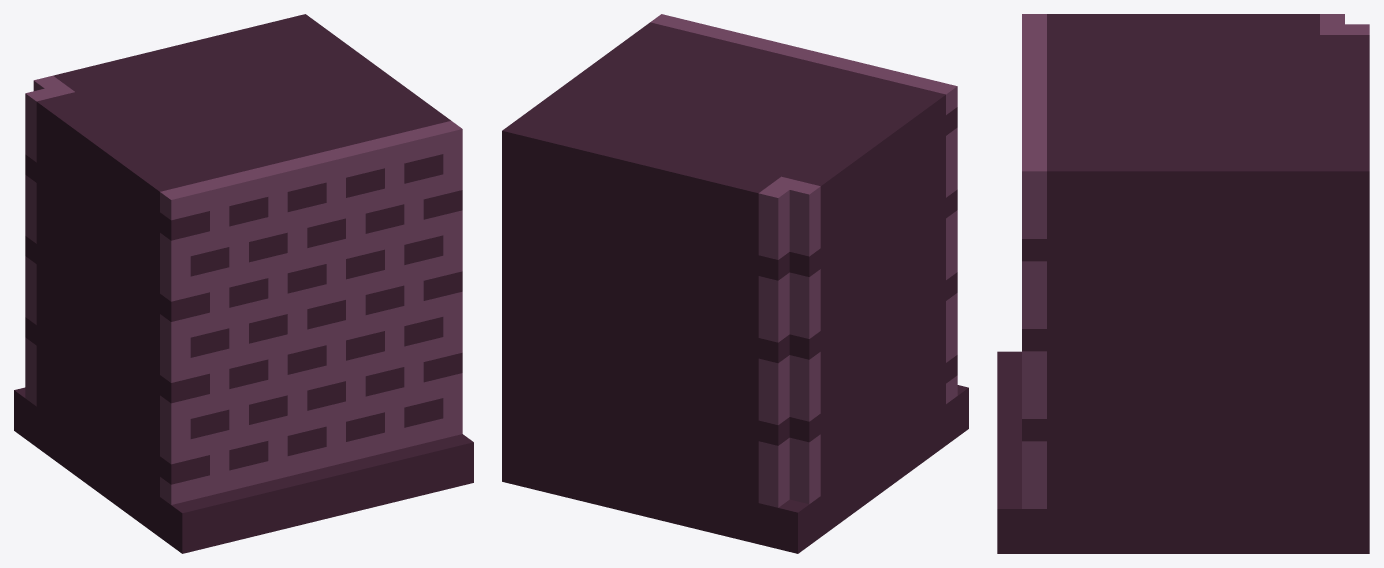
The model's file is dungeon_c_b_outer_wall_segment_d.obj.
The picture shows the model from 3 angles, left to right: view 1: azimuth 30°, elevation 25°; view 2: azimuth 150°, elevation 25°; view 3: azimuth 270°, elevation 25°; orthographic projection. The views are drawn at different scales.
Size of the model in its own units: 1.5 by 1.7 by 1.5.
Materials: 1 (1 with a texture image).
